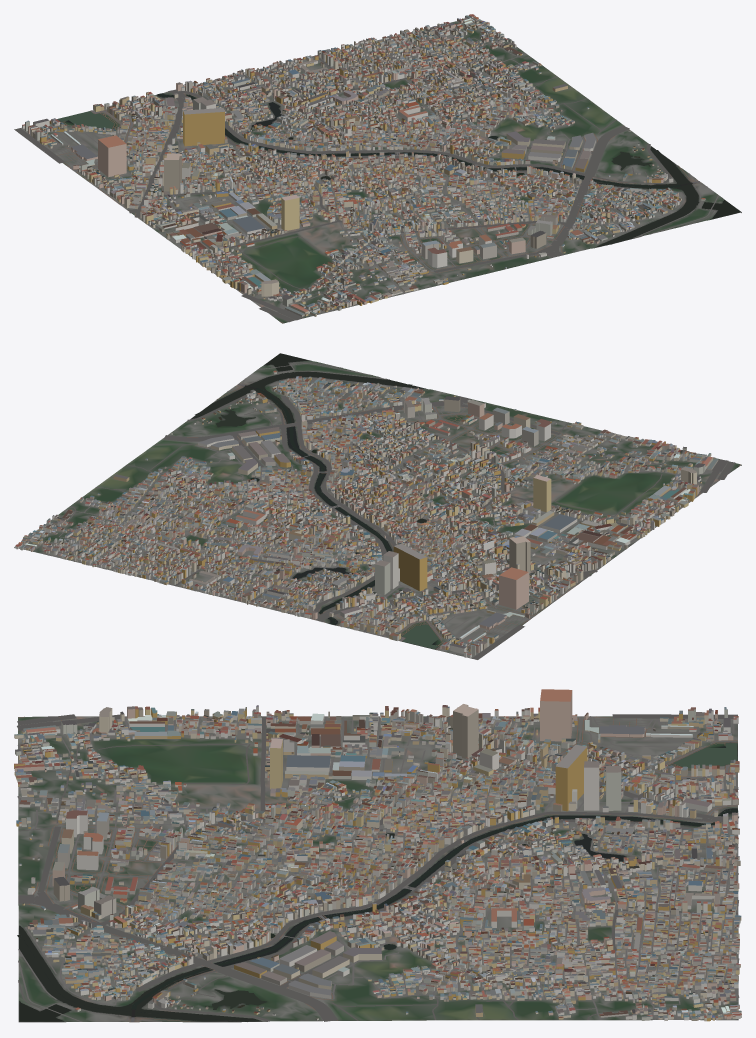
3 views of the same model, one above another, from view 1: azimuth 30°, elevation 25°; view 2: azimuth 150°, elevation 25°; view 3: azimuth 270°, elevation 25° (orthographic). The views are drawn at different scales.
Parts seen in each view (by area): view 1: buildings, ground, roads, water; view 2: buildings, ground, roads, water; view 3: buildings, ground, roads, water.
Boxes of the visible parts, bbox=[...] form: buildings: bbox=[22, 14, 705, 316]; ground: bbox=[21, 19, 741, 323]; roads: bbox=[14, 22, 718, 323]; water: bbox=[58, 93, 740, 247]; buildings: bbox=[15, 370, 718, 657]; ground: bbox=[14, 353, 741, 658]; roads: bbox=[34, 362, 740, 659]; water: bbox=[191, 353, 438, 649]; buildings: bbox=[14, 689, 741, 1021]; ground: bbox=[18, 716, 738, 1022]; roads: bbox=[17, 714, 739, 1021]; water: bbox=[17, 743, 738, 1021].
Bounding box in the file's own units: 1415 × 100 × 1418.
